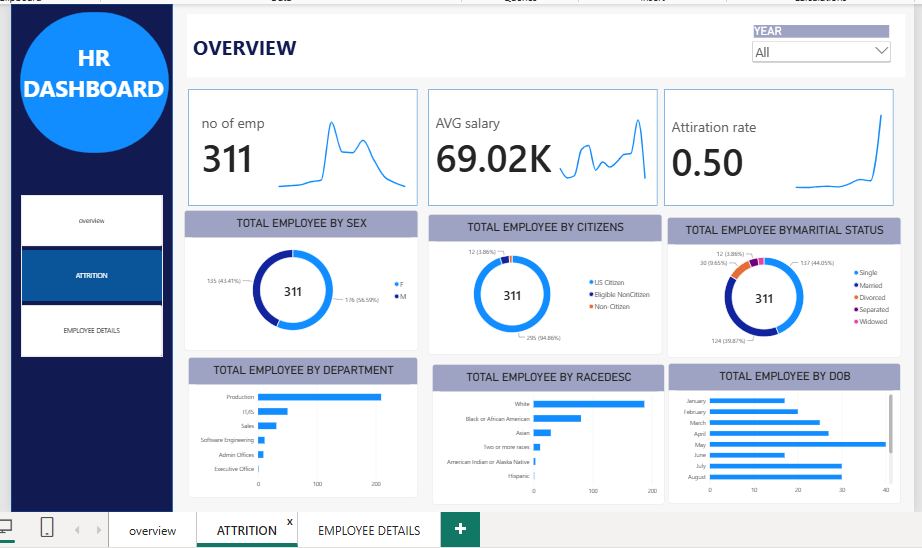

Layout of this report page (visuals, bound fields, positions):
{"tool":"powerbi","page":{"name":"overview","canvas":[1920,1080],"ordinal":0},"visuals":[{"type":"textbox","box":[373.2,22.1,1527.2,135],"z":0},{"type":"shape","box":[375.3,181.3,339.6,247.7],"z":1000},{"type":"shape","box":[0,0,343.7,1080.3],"z":3000},{"type":"shape","box":[19.6,17.2,316.7,299.5],"z":4000},{"type":"textbox","box":[24.6,81,299.5,147.3],"z":5000},{"type":"textbox","box":[387.9,61.4,267.6,76.1],"z":6000},{"type":"cardVisual","fields":{"Data":["Power BI Project HR DASHBOARD DATA SET.Terminated Employees"]},"box":[388.1,199.1,326.8,211.9],"z":7000},{"type":"donutChart","title":"TOTAL EMPLOYEE BY SEX","fields":{"Category":["Power BI Project HR DASHBOARD DATA SET.Sex"],"Y":["Power BI Project HR DASHBOARD DATA SET.no of emp"]},"box":[367.4,438.5,497.8,299.3],"z":9000},{"type":"donutChart","title":"TOTAL EMPLOYEE BY CITIZENS ","fields":{"Category":["Power BI Project HR DASHBOARD DATA SET.CitizenDesc"],"Y":["Power BI Project HR DASHBOARD DATA SET.no of emp"]},"box":[885.9,447.4,497.8,299.3],"z":10000},{"type":"donutChart","title":"TOTAL EMPLOYEE BYMARITIAL STATUS","fields":{"Category":["Power BI Project HR DASHBOARD DATA SET.MaritalDesc"],"Y":["Power BI Project HR DASHBOARD DATA SET.no of emp"]},"box":[1395.6,453.3,497.8,299.3],"z":11000},{"type":"clusteredBarChart","title":"TOTAL EMPLOYEE BY DEPARTMENT","fields":{"Category":["Power BI Project HR DASHBOARD DATA SET.Department"],"Y":["Power BI Project HR DASHBOARD DATA SET.no of emp"]},"box":[376.3,749.6,488.9,299.3],"z":12000},{"type":"clusteredBarChart","title":"TOTAL EMPLOYEE BY RACEDESC","fields":{"Category":["Power BI Project HR DASHBOARD DATA SET.RaceDesc"],"Y":["Power BI Project HR DASHBOARD DATA SET.no of emp"]},"box":[894.8,764.4,494.8,299.3],"z":13000},{"type":"clusteredBarChart","title":"TOTAL EMPLOYEE BY DOB","fields":{"Category":["Power BI Project HR DASHBOARD DATA SET.DOB.Variation.Date Hierarchy.Month","Power BI Project HR DASHBOARD DATA SET.DOB.Variation.Date Hierarchy.Day"],"Y":["Power BI Project HR DASHBOARD DATA SET.no of emp"]},"box":[1396.6,763.4,494.8,299.3],"z":14000},{"type":"shape","box":[745.5,181.3,268.1,247.7],"z":15000},{"type":"shape","box":[1036.6,181.3,360,247.7],"z":16000},{"type":"cardVisual","fields":{"Data":["Power BI Project HR DASHBOARD DATA SET.active employes"]},"box":[750.6,194,263,211.9],"z":17000},{"type":"cardVisual","fields":{"Data":["Power BI Project HR DASHBOARD DATA SET.Attiration rate"]},"box":[1064.7,199.1,245.1,211.9],"z":18000},{"type":"slicer","fields":{"Values":["date table.year"]},"box":[1571.5,44.4,304.2,91.9],"z":19000},{"type":"donutChart","title":"TOTAL EMPLOYEE BYMARITIAL STATUS","fields":{"Category":["Power BI Project HR DASHBOARD DATA SET.Sex"],"Y":["Power BI Project HR DASHBOARD DATA SET.Terminated Employees"]},"box":[1434.9,181.3,464.7,247.7],"z":21000},{"type":"pageNavigator","box":[22.2,405.5,301,345.3],"z":21001}]}

Visuals, with their boxes on the page's 1920x1080 design canvas (x1, y1, x2, y2). These are canvas units, not pixel positions in the 922x548 screenshot, which may show the page scaled, cropped or inside an application window:
textbox: 373 22 1900 157
shape: 375 181 715 429
shape: 0 0 344 1080
shape: 20 17 336 317
textbox: 25 81 324 228
textbox: 388 61 656 138
cardVisual - Power BI Project HR DASHBOARD DATA SET.Terminated Employees: 388 199 715 411
"TOTAL EMPLOYEE BY SEX" donutChart: 367 438 865 738
"TOTAL EMPLOYEE BY CITIZENS " donutChart: 886 447 1384 747
"TOTAL EMPLOYEE BYMARITIAL STATUS" donutChart: 1396 453 1893 753
"TOTAL EMPLOYEE BY DEPARTMENT" clusteredBarChart: 376 750 865 1049
"TOTAL EMPLOYEE BY RACEDESC" clusteredBarChart: 895 764 1390 1064
"TOTAL EMPLOYEE BY DOB" clusteredBarChart: 1397 763 1891 1063
shape: 746 181 1014 429
shape: 1037 181 1397 429
cardVisual - Power BI Project HR DASHBOARD DATA SET.active employes: 751 194 1014 406
cardVisual - Power BI Project HR DASHBOARD DATA SET.Attiration rate: 1065 199 1310 411
slicer - date table.year: 1572 44 1876 136
"TOTAL EMPLOYEE BYMARITIAL STATUS" donutChart: 1435 181 1900 429
pageNavigator: 22 406 323 751
